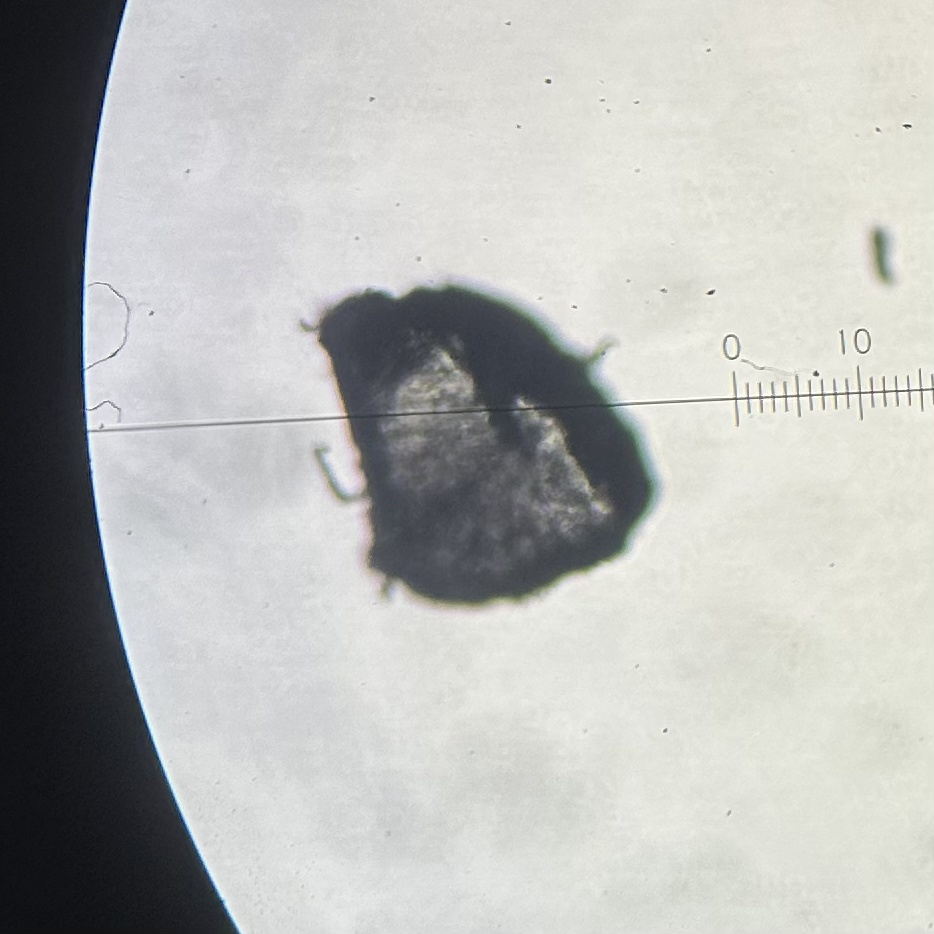microplastic: (293, 280, 666, 617), (867, 222, 901, 290)
